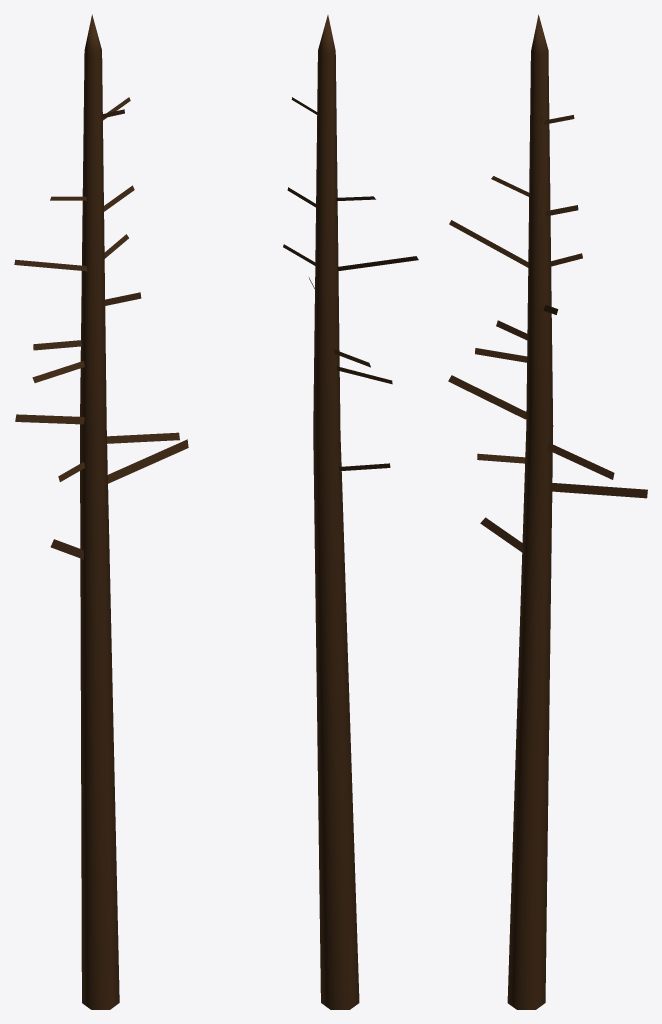
The model's file is deadpinetrees.fbx.
3 renders of one model, left to right at view 1: azimuth 30°, elevation 25°; view 2: azimuth 150°, elevation 25°; view 3: azimuth 330°, elevation 25°, orthographic.
Visible parts, largest first — view 1: deadpine.000, deadpine.001; view 2: deadpine.000, deadpine.001; view 3: deadpine.000, deadpine.001.
Part boxes in pixels (bbox=[...]): deadpine.000: bbox=[32, 14, 179, 1009]; deadpine.001: bbox=[14, 97, 188, 483]; deadpine.000: bbox=[283, 15, 392, 1009]; deadpine.001: bbox=[287, 97, 418, 367]; deadpine.000: bbox=[475, 14, 614, 1009]; deadpine.001: bbox=[448, 115, 647, 498].
Bounding box in the file's own units: 119 × 600 × 32.
